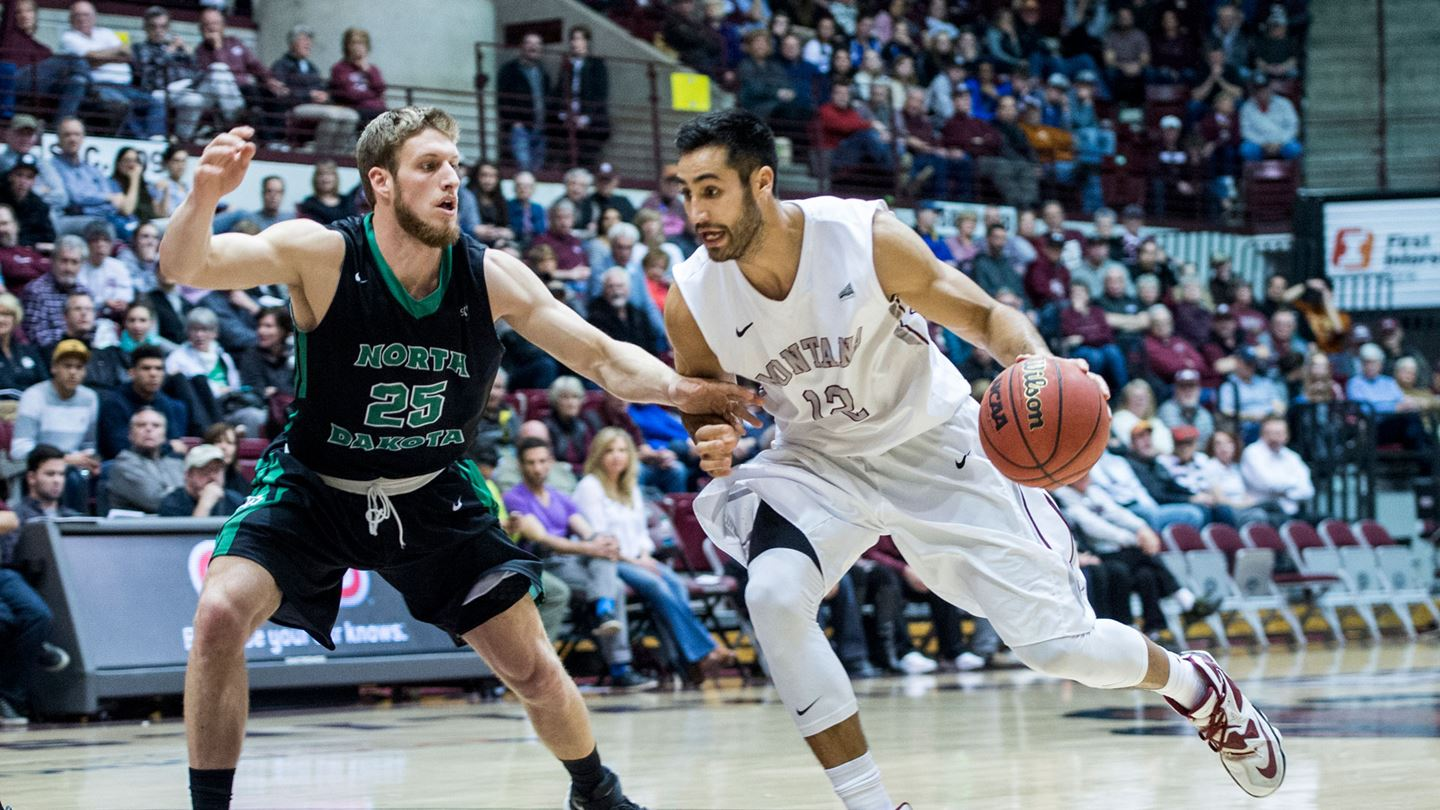ball: (970, 331, 1123, 511)
defense: (146, 75, 660, 810)
run: (616, 97, 1340, 810)
